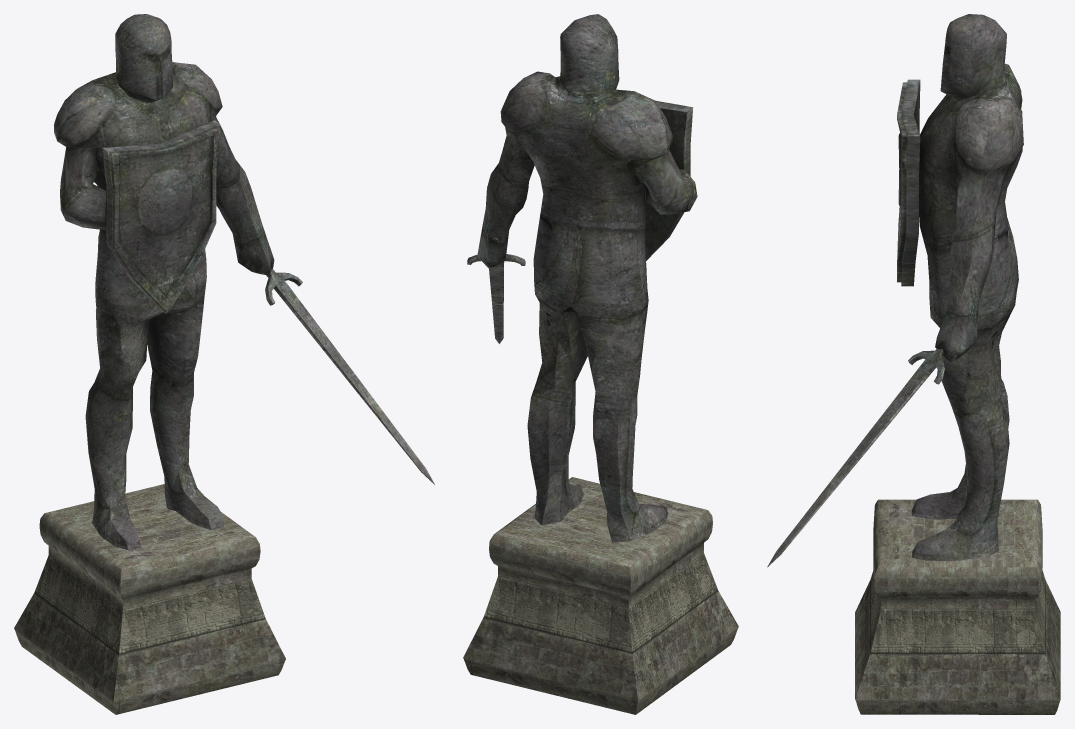
The model's file is Guardianstatue.fbx.
3 renders of one model, left to right at view 1: azimuth 30°, elevation 25°; view 2: azimuth 150°, elevation 25°; view 3: azimuth 270°, elevation 25°, orthographic. The views are drawn at different scales.
Visible parts, largest first — view 1: Mesh Object; view 2: Mesh Object; view 3: Mesh Object.
Part boxes in pixels (x1,y1,x2,y2): Mesh Object: (14, 14, 434, 714); Mesh Object: (463, 14, 738, 714); Mesh Object: (767, 14, 1060, 714).
Bounding box in the file's own units: 3.08 × 6.65 × 2.69.
